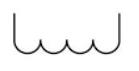inductor: (7, 10, 127, 56)
